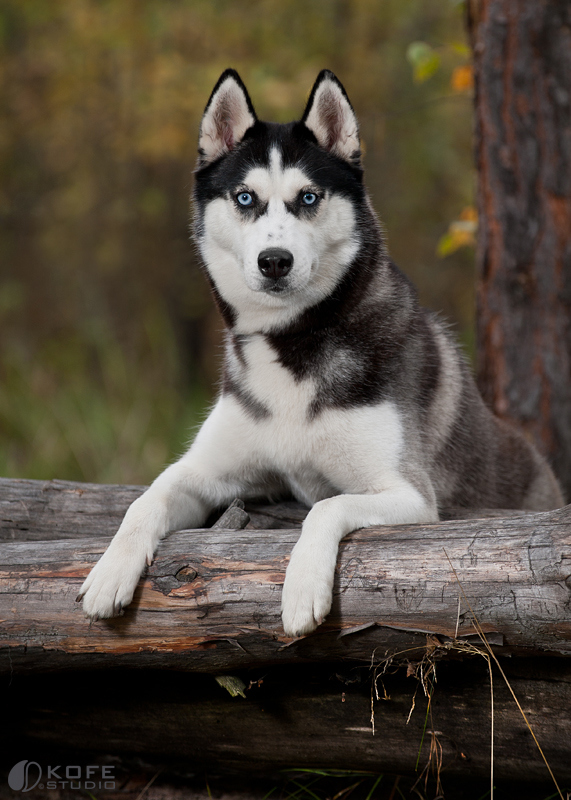dog: (83, 56, 569, 641)
siberian-husky: (81, 54, 567, 639)
